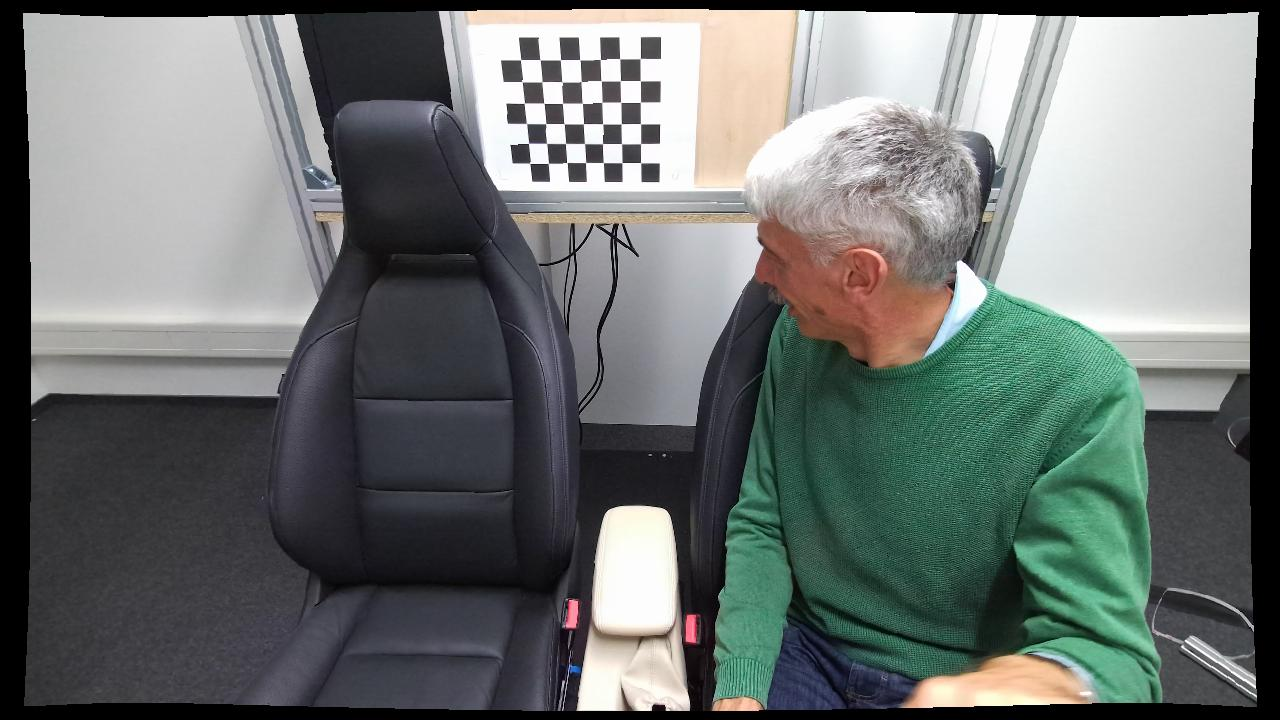Distracted: (702, 93, 1119, 710)
